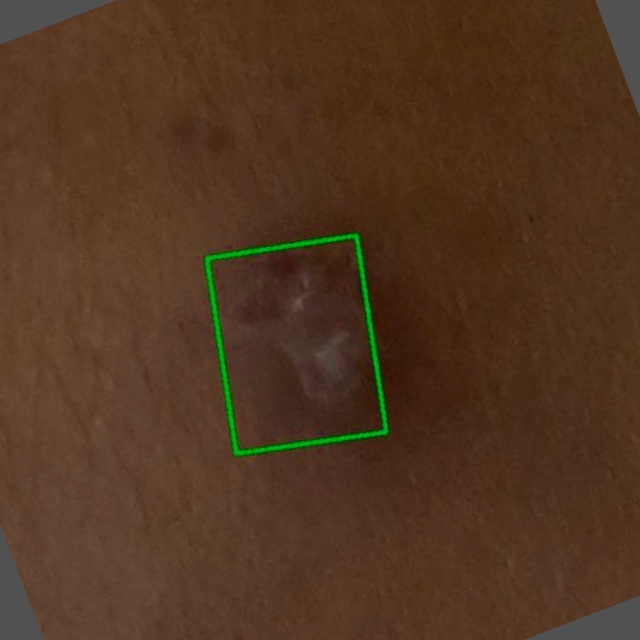Contact Dermatitis: (208, 236, 386, 454)
